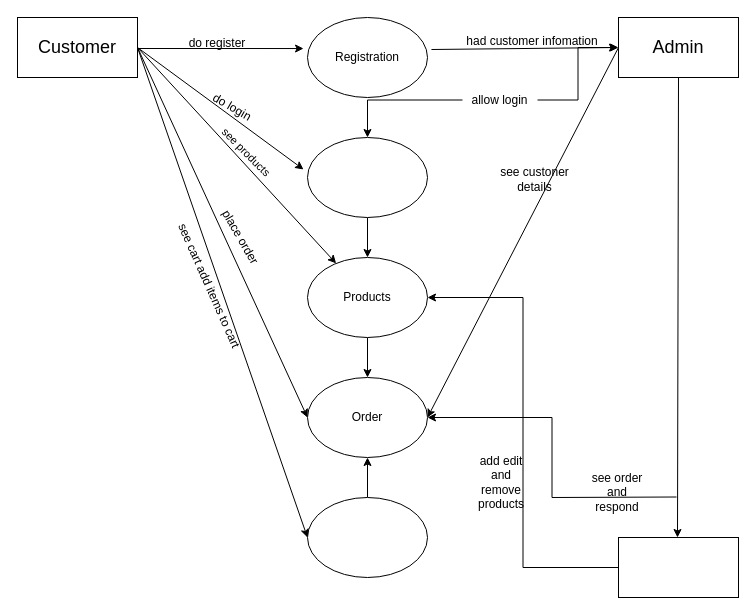
Some shapes in this 756 by 615 pixel diagram are drawn without their labels. The centre of each missing label's shape, as x and y in pixels:
"Cart" goes at pixel 367 537.
"LogIn" goes at pixel 367 177.
"Saler" goes at pixel 678 567.
